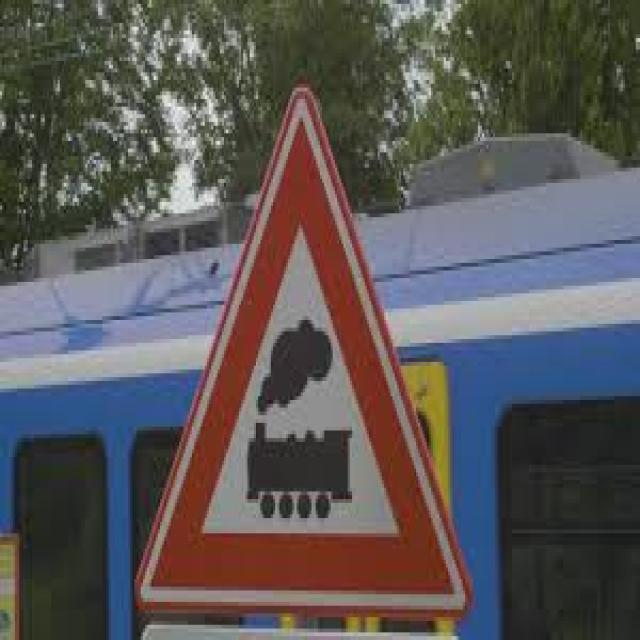unguarded level crossing: (138, 101, 468, 619)
